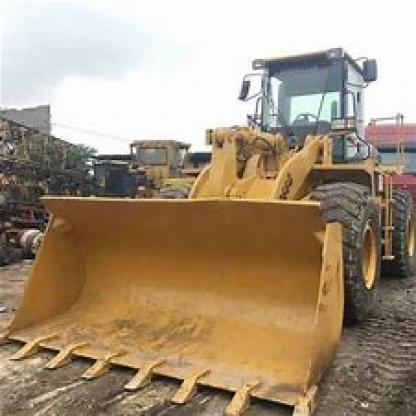bull_dozer/loader/grader: (11, 42, 414, 405)
